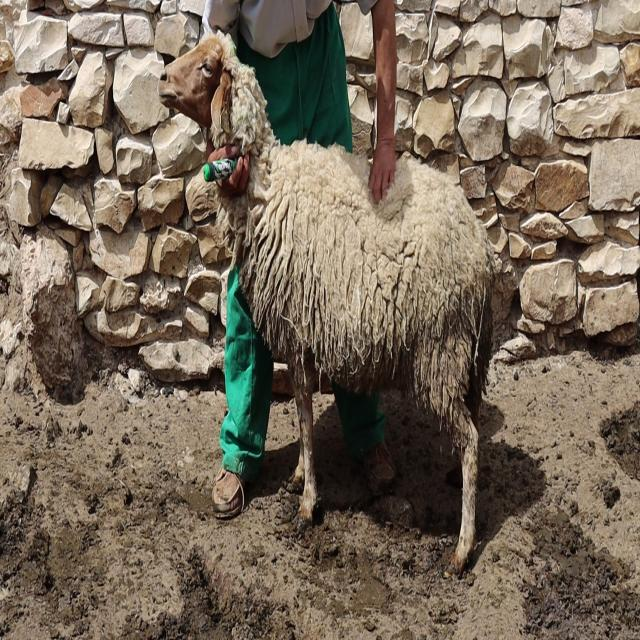Score_3: (158, 33, 499, 569)
